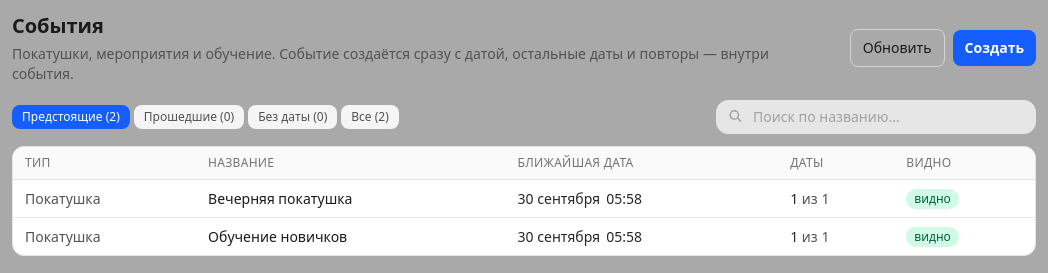
Scenario: EventsPage › поиск фильтрует по названию и обновляет счётчики вкладок
expect the text "Вечерняя покатушка" is shown: met, box left=196, top=180, right=506, bottom=218
Type "обуч" into the field with placeholder "Поиск по названию…" at (876, 117), box left=716, top=100, right=1036, bottom=134
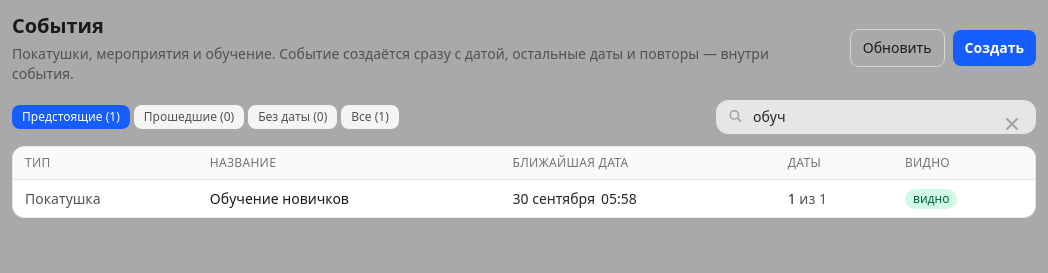
expect the text "Обучение новичков" is shown: met, box left=198, top=180, right=500, bottom=217
expect the text "Вечерняя покатушка" is gone: met
expect the button "Предстоящие (1)" is shown: met, box left=12, top=105, right=130, bottom=129
